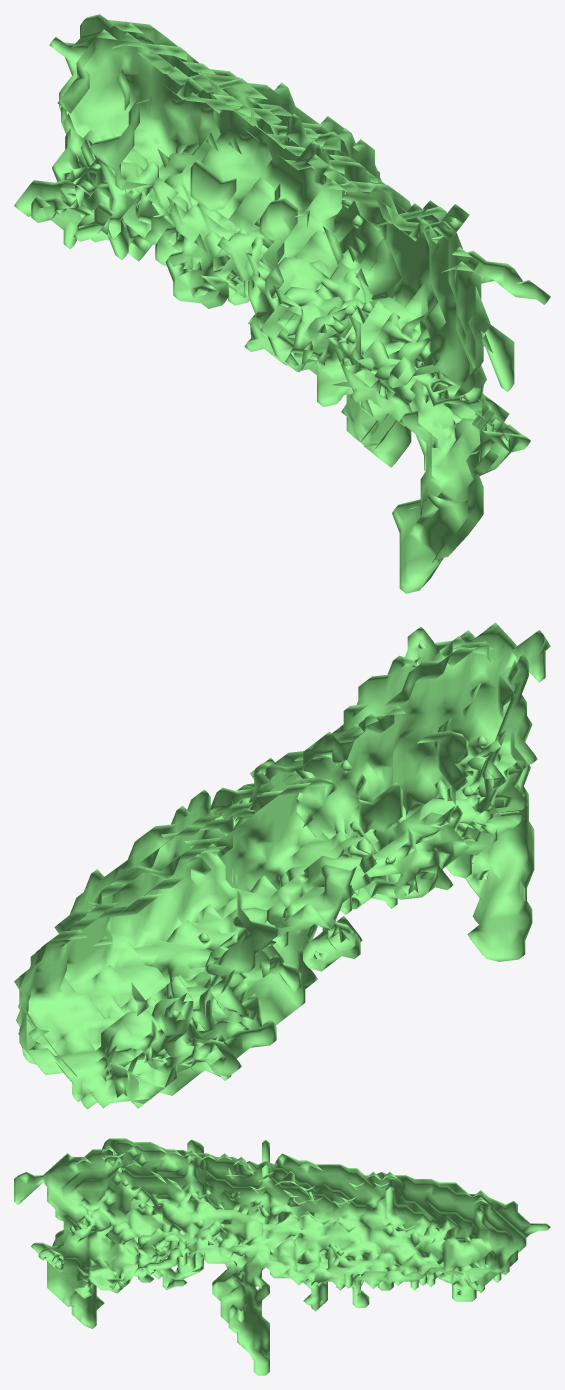
File: osteocyte_98.glb
3 views of the same model, one above another, from view 1: azimuth 30°, elevation 25°; view 2: azimuth 150°, elevation 25°; view 3: azimuth 270°, elevation 25° (orthographic). The views are drawn at different scales.
Visible parts, largest first — view 1: osteocyte_98; view 2: osteocyte_98; view 3: osteocyte_98.
Part boxes in pixels (bbox=[...]): osteocyte_98: bbox=[14, 14, 550, 593]; osteocyte_98: bbox=[14, 622, 550, 1109]; osteocyte_98: bbox=[14, 1138, 550, 1375].
Size of the model in its own units: 10.11 by 13 by 31.29.
